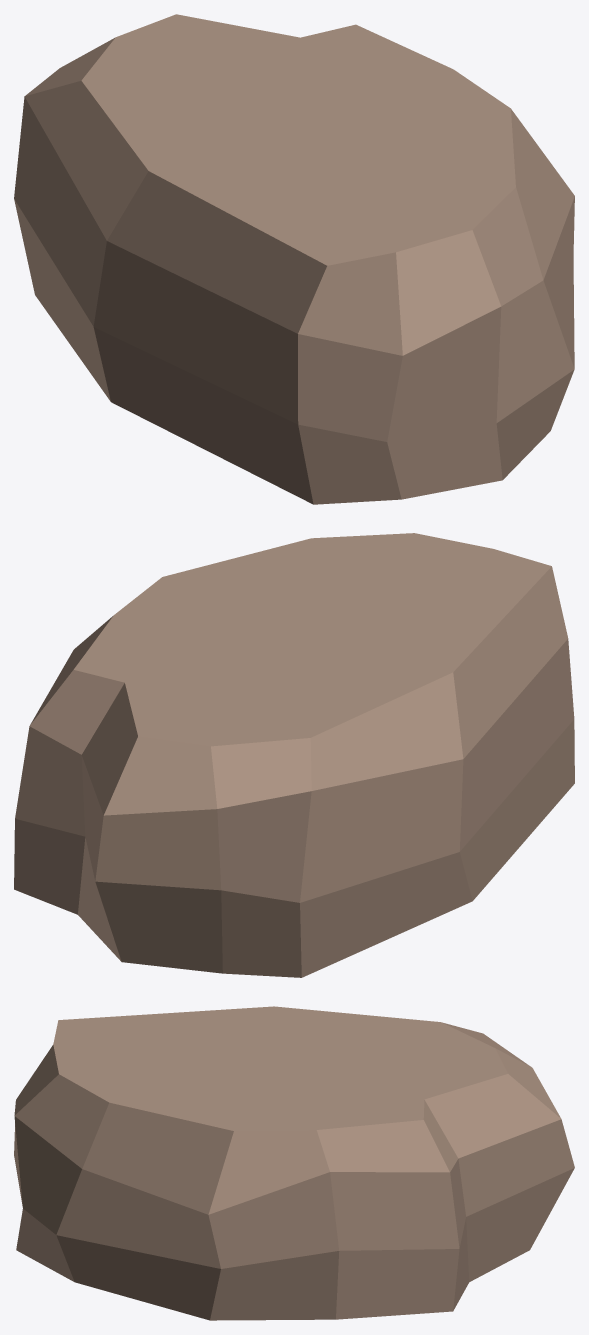
File: Stackable_Rock_4_6_2_Colored.fbx
3 views of the same model, one above another, from view 1: azimuth 30°, elevation 25°; view 2: azimuth 150°, elevation 25°; view 3: azimuth 270°, elevation 25° (orthographic). The views are drawn at different scales.
Parts seen in each view (by area): view 1: Stackable_Rock_5_3_4; view 2: Stackable_Rock_5_3_4; view 3: Stackable_Rock_5_3_4.
Part boxes in pixels (<box>): Stackable_Rock_5_3_4: <box>14,14,574,504</box>; Stackable_Rock_5_3_4: <box>14,533,574,977</box>; Stackable_Rock_5_3_4: <box>14,1006,574,1320</box>.
Size of the model in its own units: 383 by 200 by 580.
